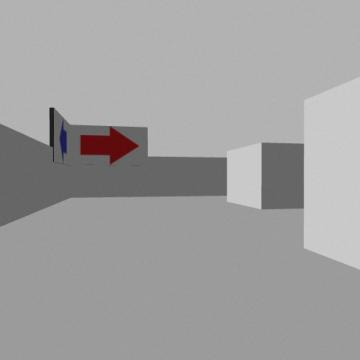blue_left: (60, 120, 66, 161)
red_right: (80, 127, 138, 164)
